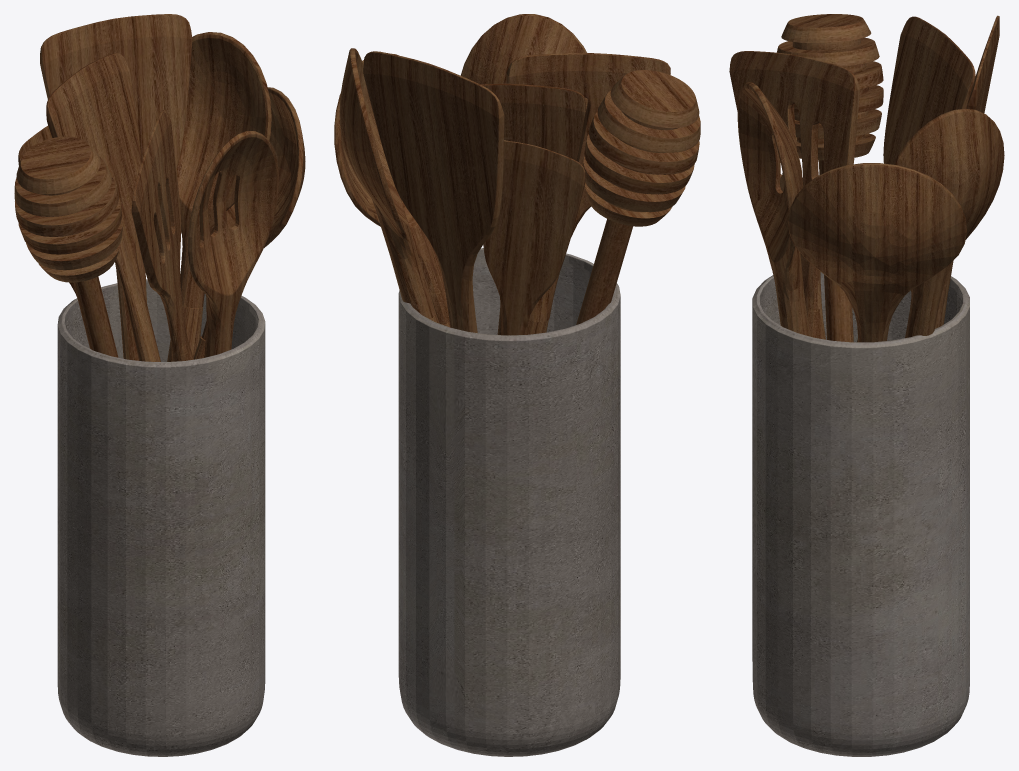
File: wooden-kitchenware-7.obj
The picture shows the model from 3 angles, left to right: view 1: azimuth 30°, elevation 25°; view 2: azimuth 150°, elevation 25°; view 3: azimuth 270°, elevation 25°; orthographic projection. The views are drawn at different scales.
Parts seen in each view (by area): view 1: Kitchenware_105; view 2: Kitchenware_105; view 3: Kitchenware_105.
Part boxes in pixels (x1,y1,x2,y2): Kitchenware_105: (14, 14, 305, 756); Kitchenware_105: (334, 14, 700, 756); Kitchenware_105: (729, 14, 1004, 756).
Bounding box in the file's own units: 14.32 × 30.24 × 10.89.
Materials: 2 (2 with a texture image).
